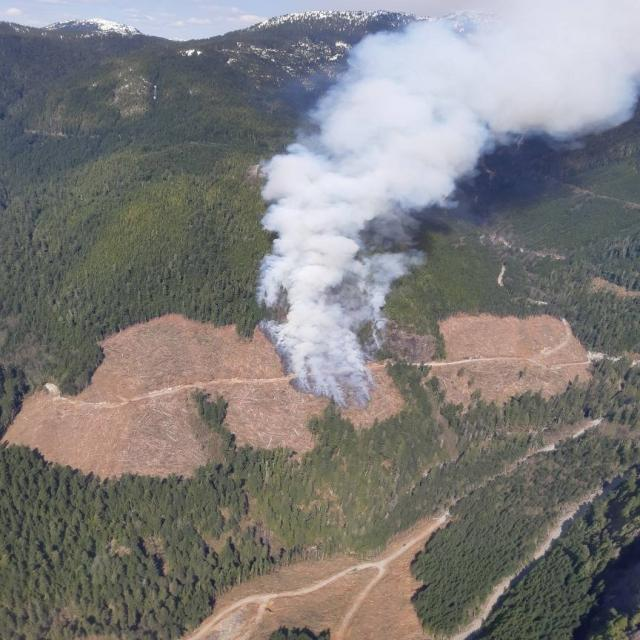Smoke: (239, 2, 412, 404), (247, 0, 640, 150)
